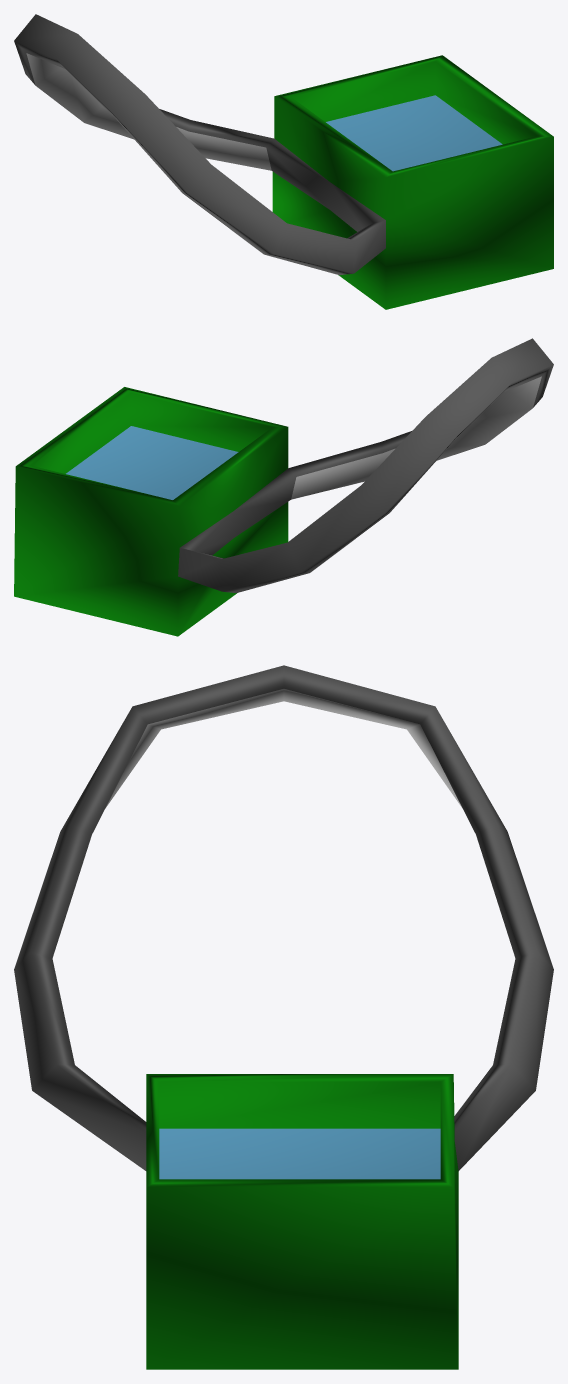
File: container.fbx
3 renders of one model, top to bottom at view 1: azimuth 30°, elevation 25°; view 2: azimuth 150°, elevation 25°; view 3: azimuth 270°, elevation 25°, orthographic. The views are drawn at different scales.
Parts seen in each view (by area): view 1: container; view 2: container; view 3: container.
Part boxes in pixels (x1,y1,x2,y2): container: [14, 14, 553, 309]; container: [14, 338, 553, 636]; container: [14, 665, 553, 1369].
Bounding box in the file's own units: 3.32 × 2.14 × 2.51.
